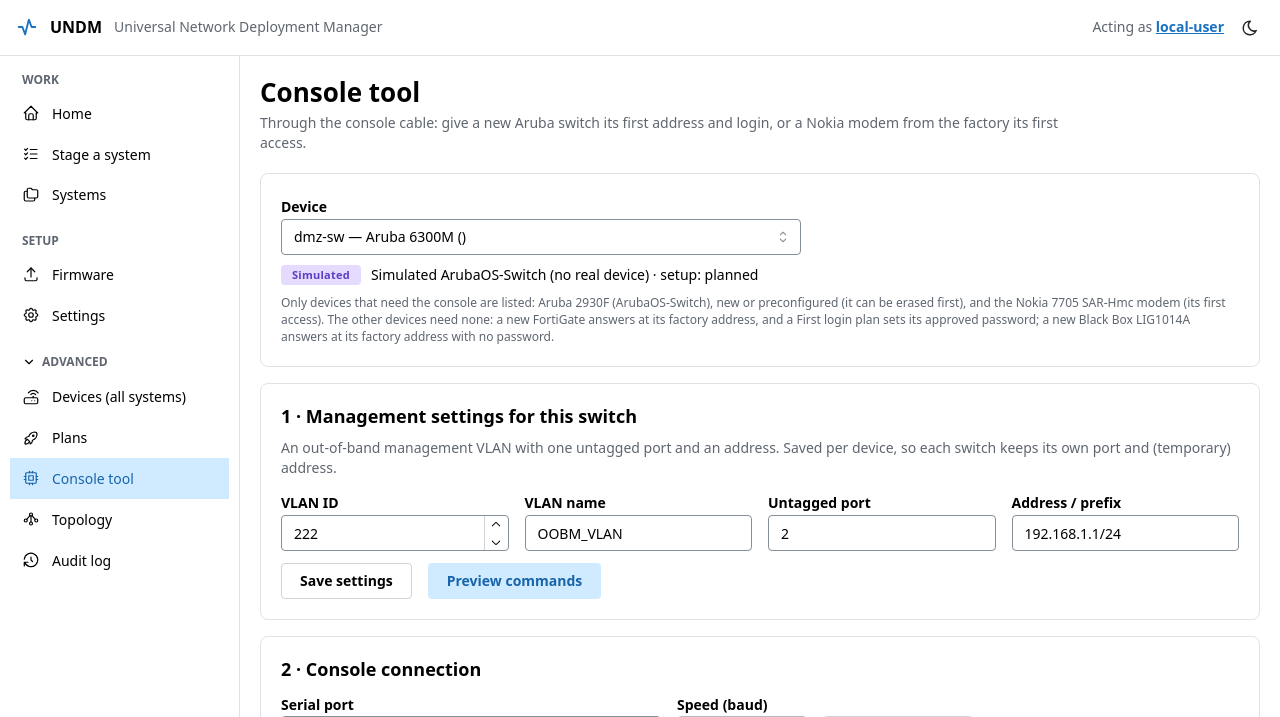
application shell › provisioning page previews the exact console commands for a switch
This screenshot has width=1280, height=717.
Expected: the field showing "OOBM_VLAN" is shown, 524,515 -> 752,551
Expected: the field showing "192.168.1.1/24" is shown, 1012,515 -> 1239,551
Step 1. Click the button "Preview commands" → (514, 581), box 428,563 -> 601,599
(page scrolled)
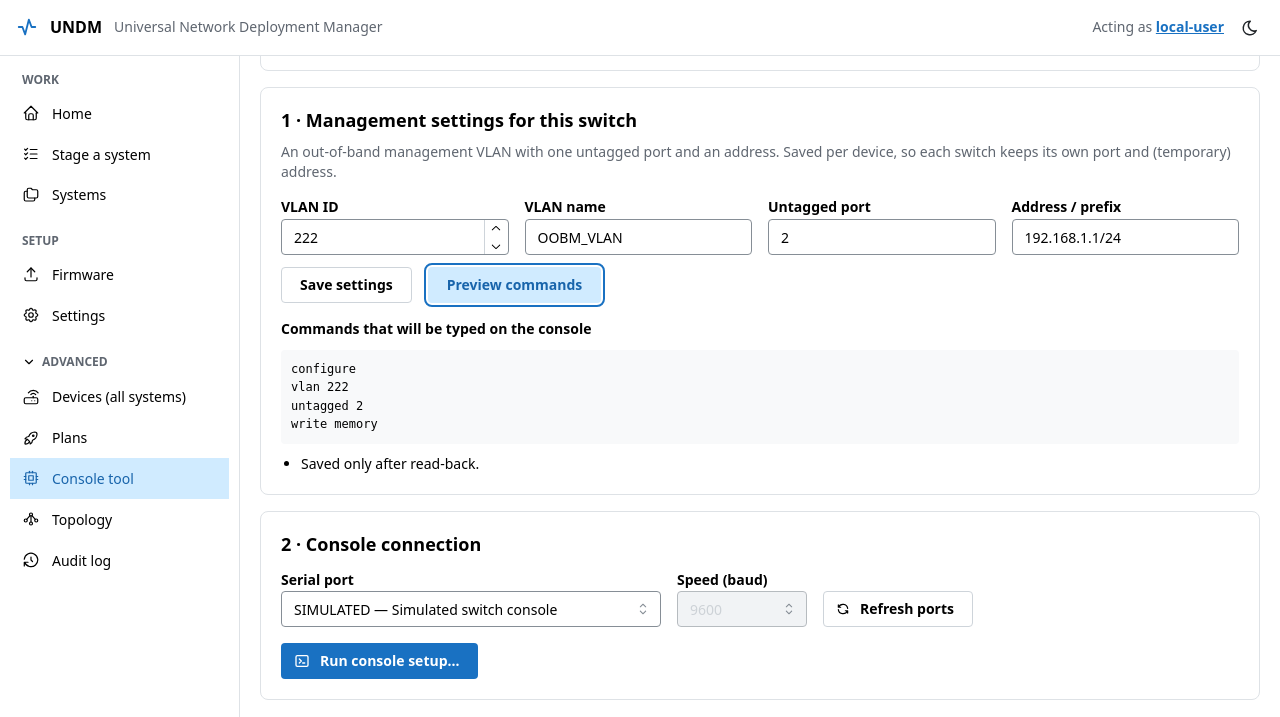
Expected: the button "Run console setup…" is enabled, 281,643 -> 478,679
Expected: the text "configure vlan 222 untagged 2 write memory" is shown, 281,350 -> 1239,444
